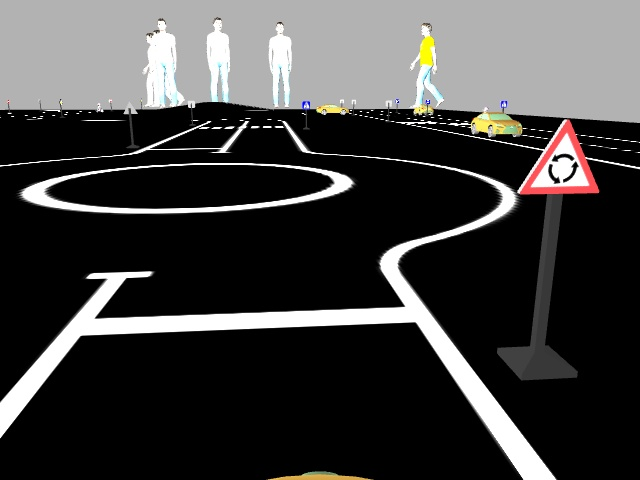Roundabout: (516, 116, 602, 198)
